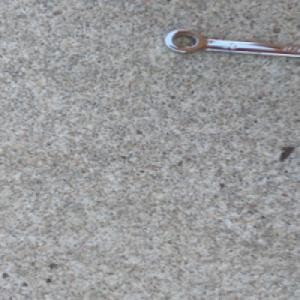Wrench: (160, 27, 300, 59)
